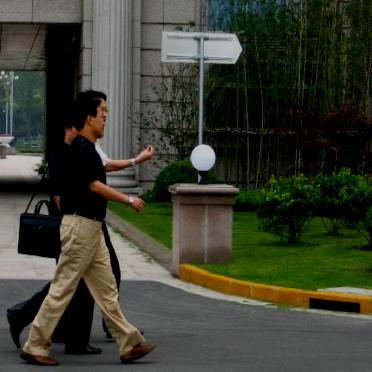ped: (22, 99, 155, 367)
